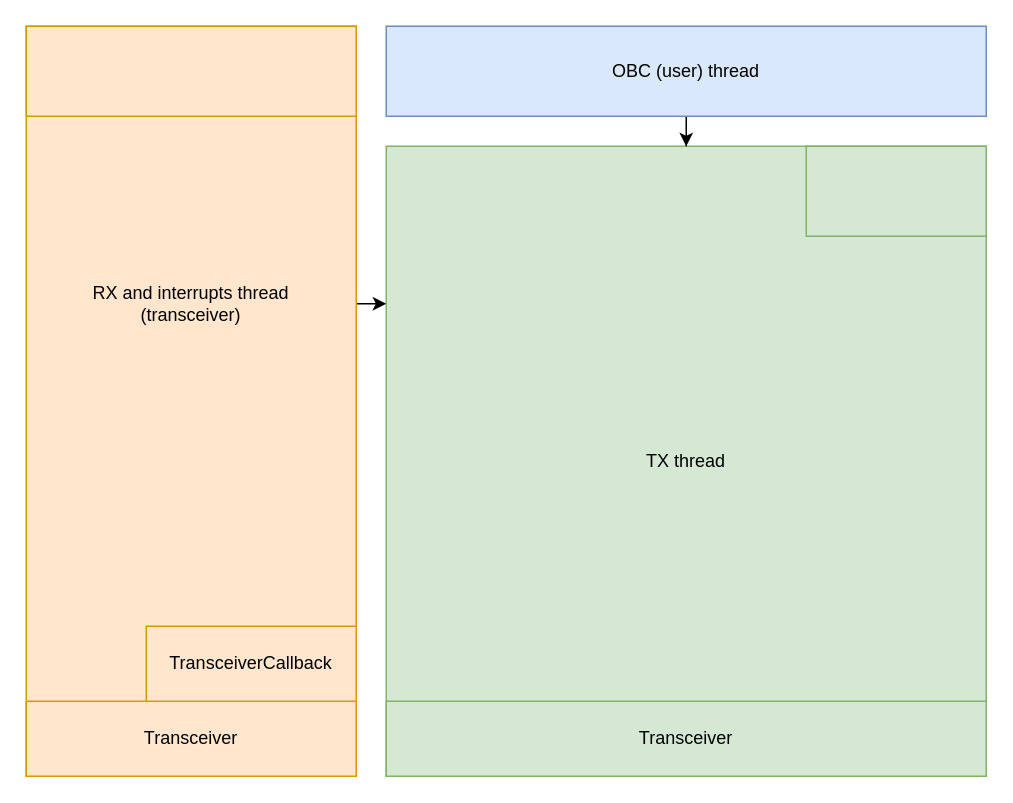
Image size: 1013x803. Some labels were removed from this diagram. Here are the shapes that lost their labels. From the top down, the centre of each, then its label:
[190,70]: UserDataCallback
[895,190]: NodeCallback
